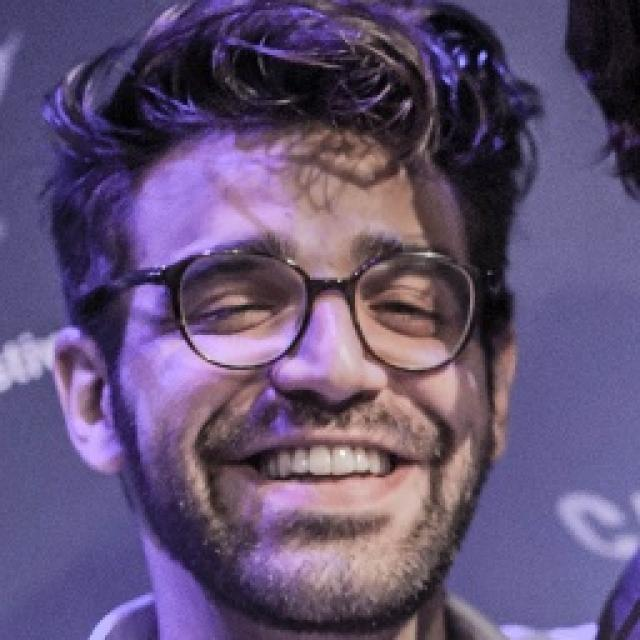earlobe: (47, 327, 129, 476), (491, 329, 515, 462)
